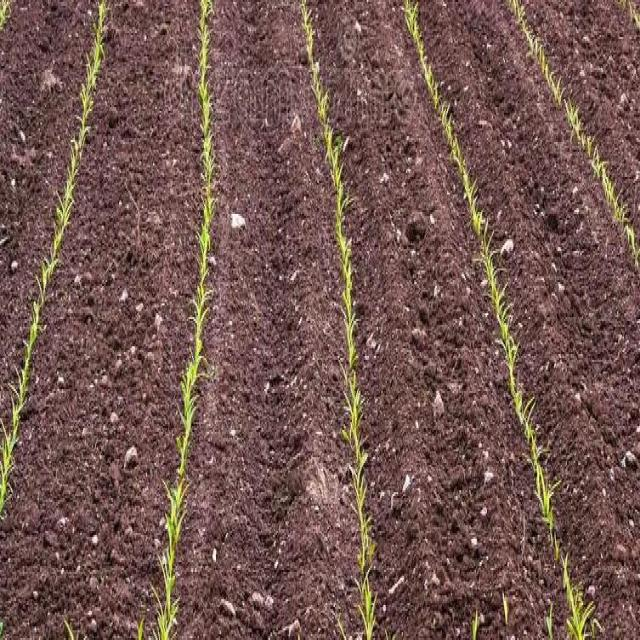row: (314, 0, 574, 640), (421, 0, 640, 640), (0, 2, 201, 640), (175, 0, 362, 640), (0, 0, 100, 462), (524, 0, 640, 238)
